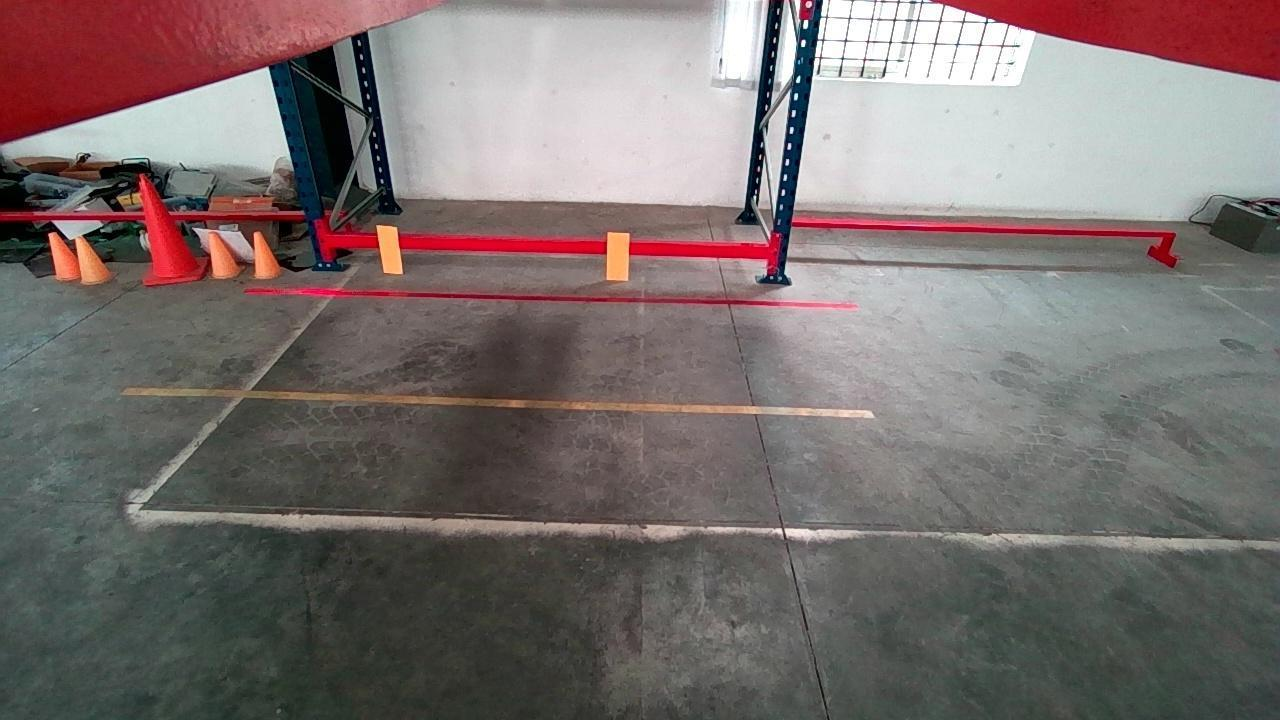h_rack: (330, 234, 768, 259)
orange_strip: (377, 225, 400, 274), (607, 231, 630, 280)
red_line: (240, 286, 858, 309)
yellow_line: (123, 385, 876, 419)
